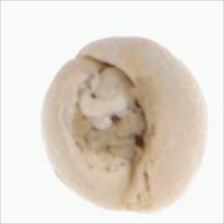L3: (76, 57, 147, 175)
L4: (41, 37, 208, 212)
